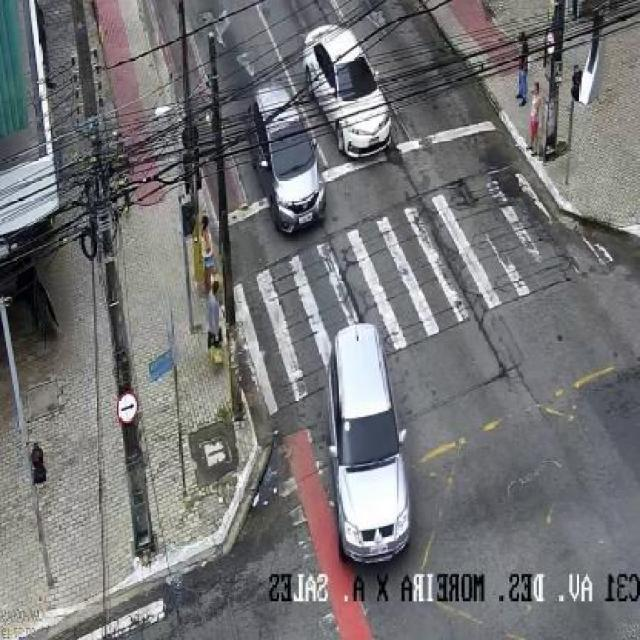Car: (318, 300, 424, 586), (224, 68, 347, 225), (298, 7, 372, 175)
